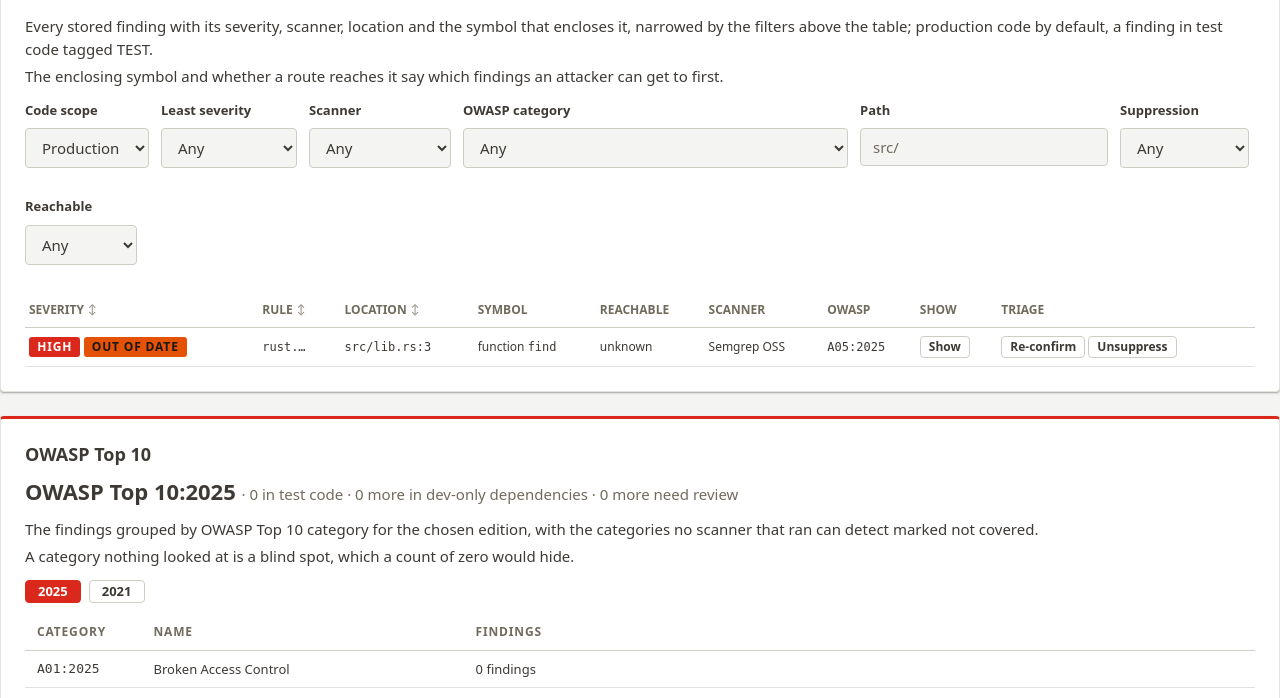
Test: evidence (FR-SC-32, S-818) › re-confirms with an intent-guarded POST of the finding's fingerprint, then reloads the suppressed verdict
(page scrolled)
Step 1. Click the button "Re-confirm" → {"x": 1043, "y": 347}, box [1001,336,1085,358]
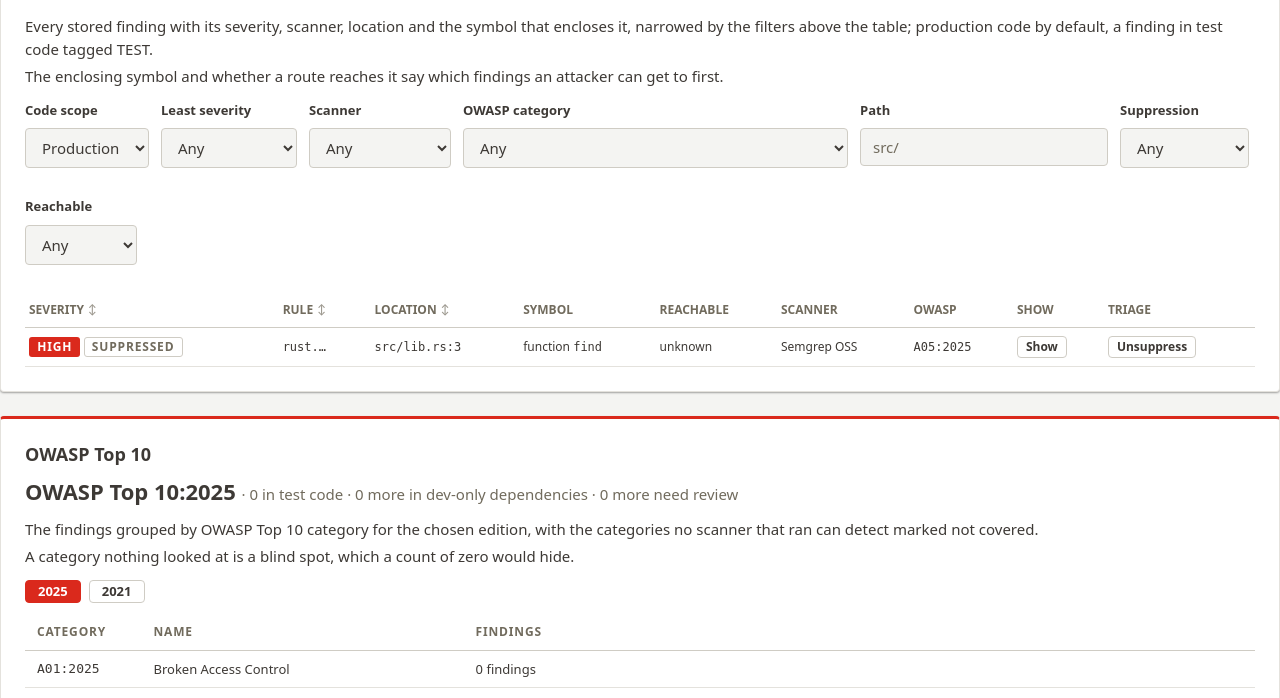
Expected: the button "Re-confirm " is gone
Expected: the text "suppressed" is shown, [84,337,183,357]
